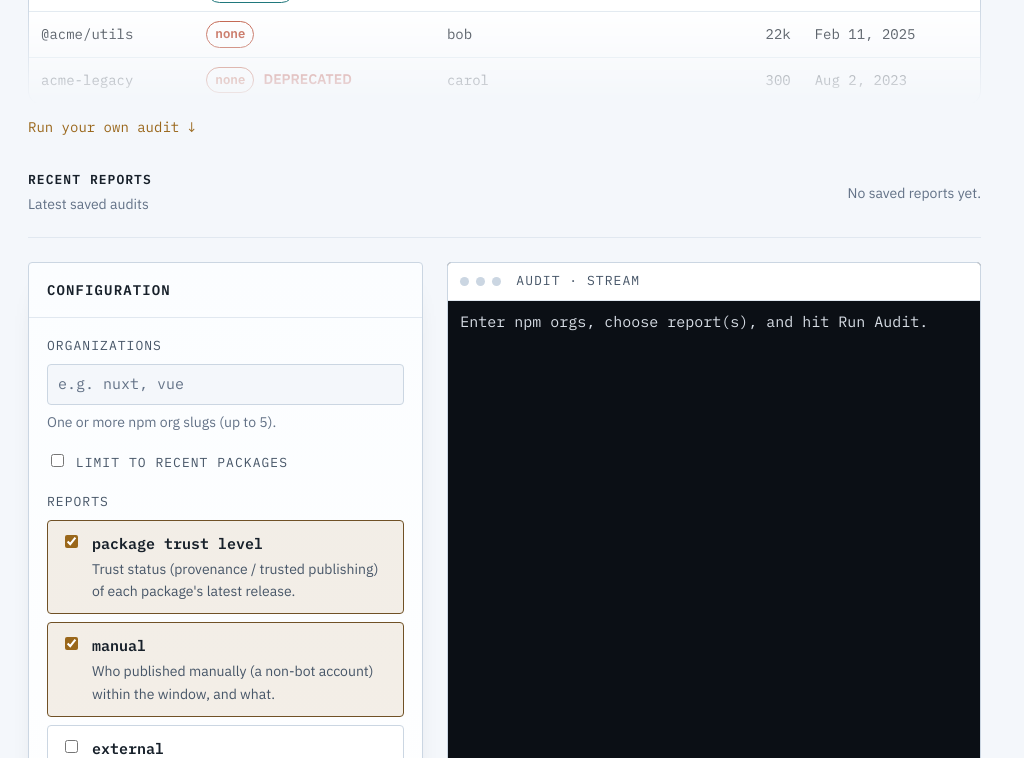
it: App › surfaces a streamed audit failure and leaves the form usable
(page scrolled)
Type "netlify" into the field with placeholder "e.g. nuxt, vue".
click(226, 384); type("netlify")  # box [56,371,395,398]
Then press Enter
(page scrolled)
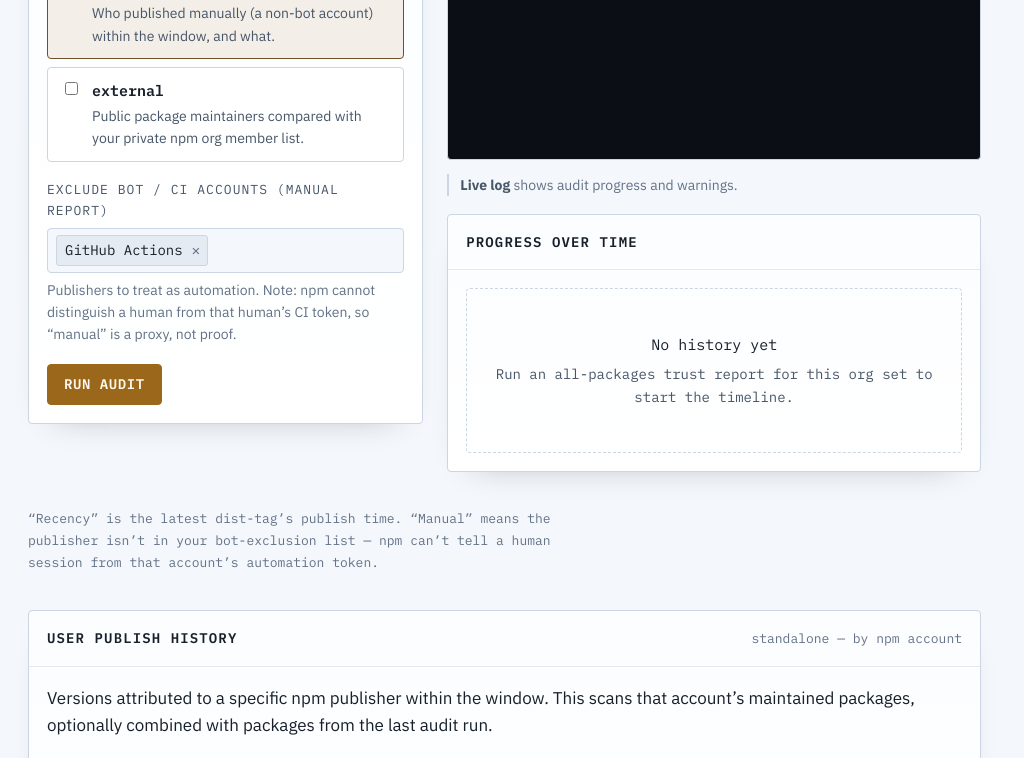
Click the button "Run audit".
click(104, 385)  # box [47,364,162,405]
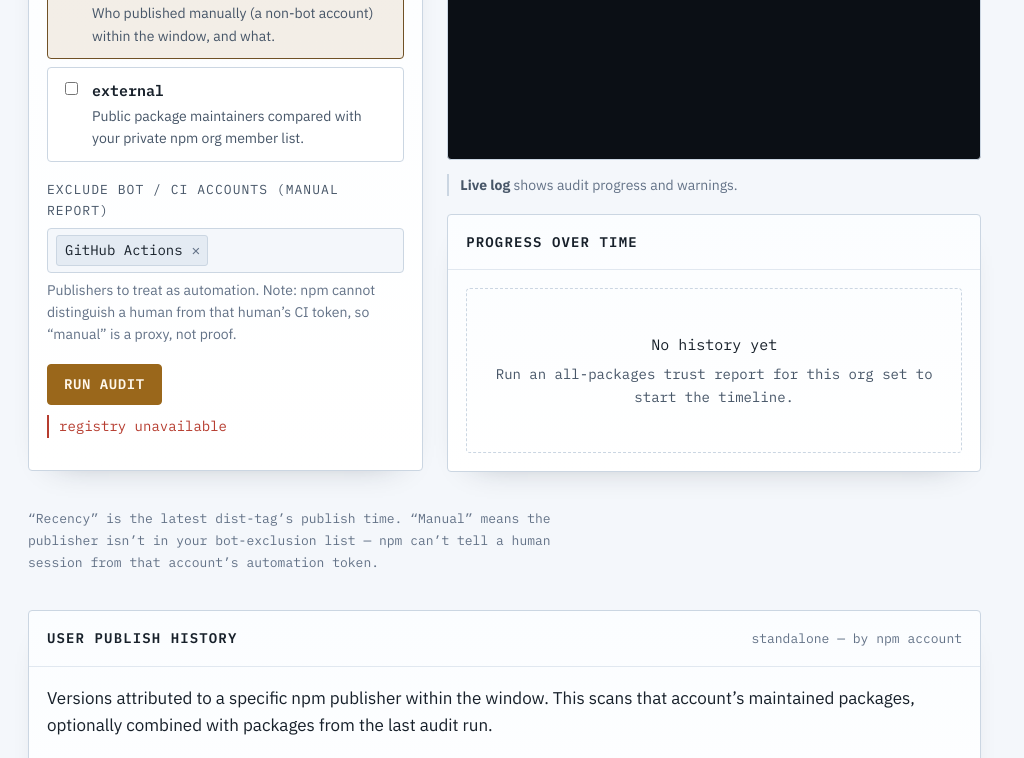
Expected: the message reads "registry unavailable", [59,417,227,435]
